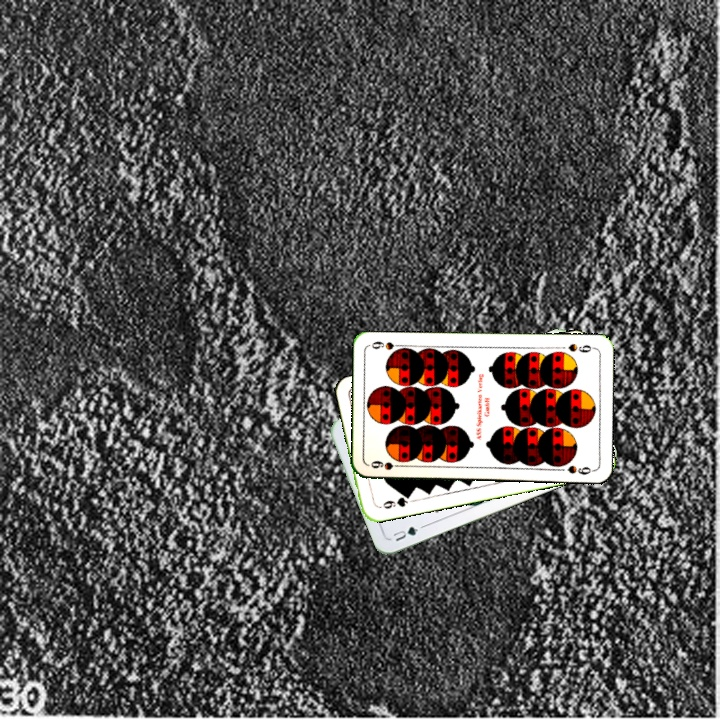G9: (379, 490, 413, 511)
GU: (389, 522, 421, 544)
S9: (367, 456, 407, 472), (564, 340, 597, 355)
